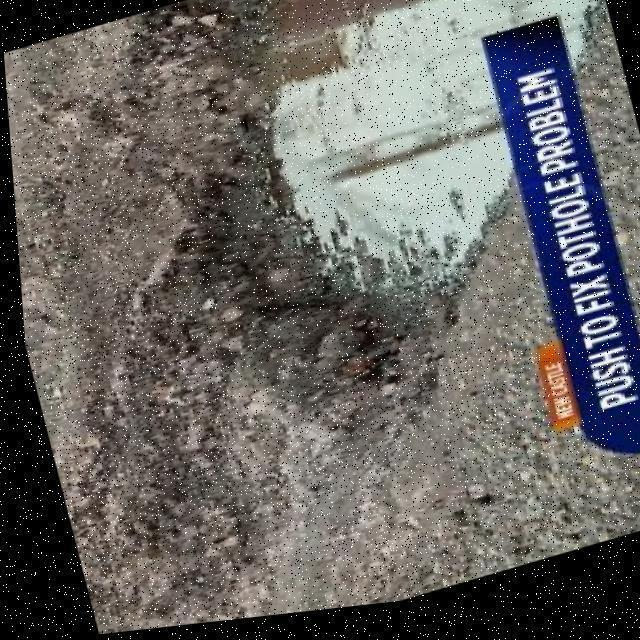Pothole: (72, 0, 605, 627)
